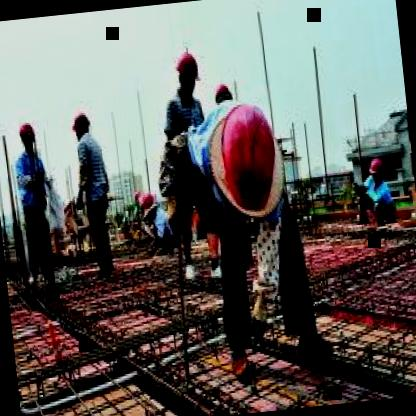helmet: (201, 98, 289, 226), (172, 46, 204, 104), (210, 76, 238, 107), (68, 110, 94, 142), (16, 119, 38, 156), (368, 155, 388, 185)
